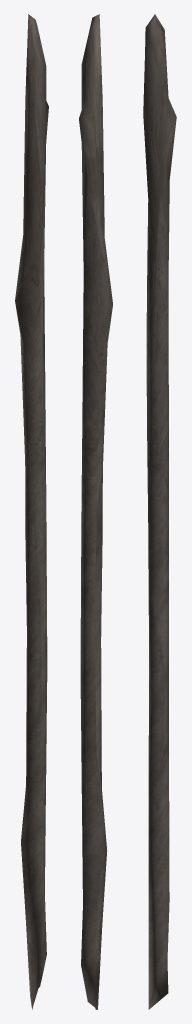
Rendered from palka_0.glb.
3 views of the same model, side by side, from view 1: azimuth 30°, elevation 25°; view 2: azimuth 210°, elevation 25°; view 3: azimuth 330°, elevation 25° (orthographic).
Visible parts, largest first — view 1: palka_0; view 2: palka_0; view 3: palka_0.
Part boxes in pixels (x1,y1,x2,y2): palka_0: (15,14,48,1009); palka_0: (79,14,112,1009); palka_0: (143,14,176,1009).
Size of the model in its own units: 4.88 by 151 by 4.49.
Materials: 1 (1 with a texture image).
